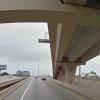Bridge: (25, 3, 87, 83)
